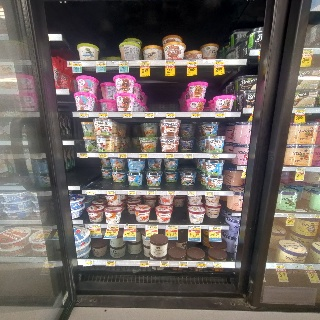All PRICE TAGS: (304, 264, 315, 270), (146, 224, 158, 229), (88, 224, 100, 229), (214, 59, 224, 65), (215, 112, 225, 118), (140, 260, 148, 267), (210, 225, 221, 230), (214, 262, 223, 268), (197, 262, 206, 268), (179, 261, 188, 267), (106, 260, 115, 266), (166, 112, 175, 118), (304, 49, 313, 55), (72, 61, 82, 66), (165, 60, 175, 65), (161, 261, 169, 267), (189, 225, 201, 229), (165, 225, 177, 229), (124, 224, 136, 228), (107, 224, 119, 228), (276, 263, 284, 269), (84, 260, 93, 265), (187, 60, 196, 65), (141, 60, 150, 65), (296, 108, 305, 113), (119, 61, 128, 66), (123, 112, 132, 117), (145, 112, 154, 117), (191, 112, 200, 117), (165, 153, 174, 158), (297, 167, 305, 172), (97, 61, 105, 66), (99, 112, 107, 117), (119, 153, 127, 158), (87, 190, 95, 195), (128, 190, 136, 195), (79, 113, 88, 117), (78, 153, 87, 157), (210, 154, 219, 158), (99, 153, 107, 157), (139, 153, 147, 157), (185, 154, 193, 158), (107, 190, 115, 194), (147, 191, 155, 195), (188, 191, 196, 195), (206, 191, 214, 195), (288, 214, 295, 218), (168, 191, 175, 195), (227, 191, 234, 195)
